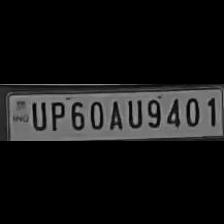0: (86, 96, 104, 130), (182, 93, 200, 126)
1: (202, 93, 220, 127)
4: (162, 93, 180, 127)
6: (66, 96, 86, 130)
9: (143, 94, 161, 128)
A: (105, 96, 124, 130)
P: (47, 96, 65, 132)
U: (125, 94, 142, 130), (28, 97, 46, 130)
